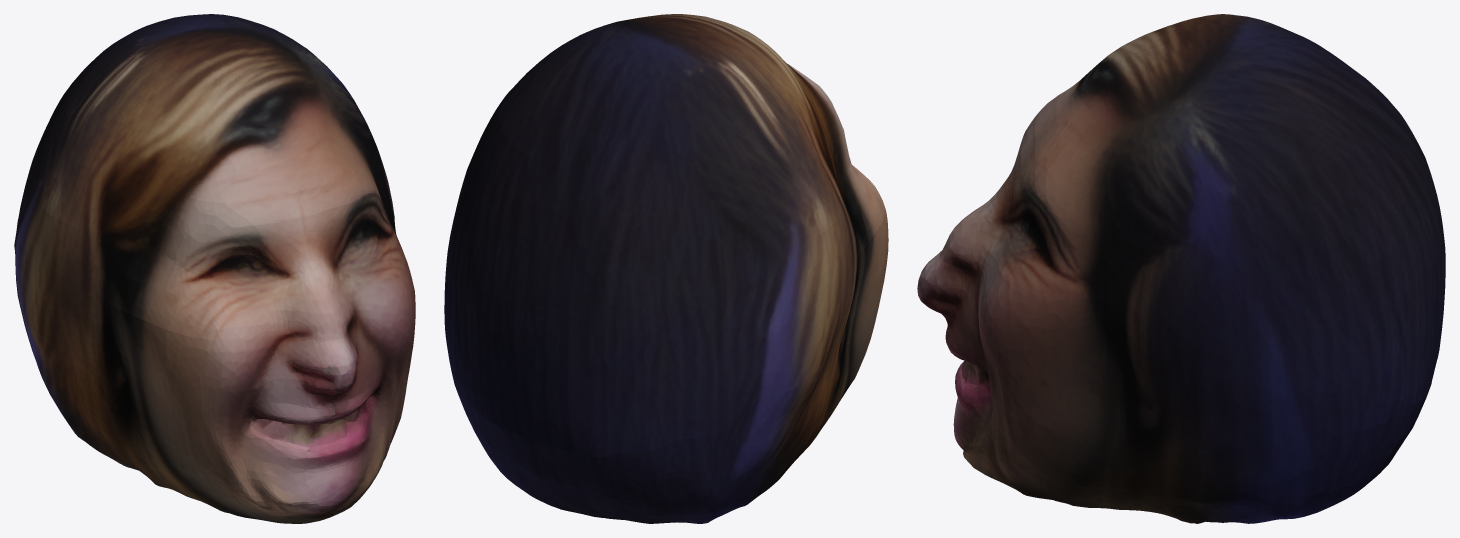
The picture shows the model from 3 angles, left to right: view 1: azimuth 30°, elevation 25°; view 2: azimuth 150°, elevation 25°; view 3: azimuth 270°, elevation 25°; orthographic projection. The views are drawn at different scales.
Visible parts, largest first — view 1: geometry_0; view 2: geometry_0; view 3: geometry_0.
Part boxes in pixels (x1,y1,x2,y2): geometry_0: (14, 14, 415, 523); geometry_0: (444, 14, 888, 523); geometry_0: (917, 14, 1445, 523).
Bounding box in the file's own units: 0.5207 × 0.6368 × 0.6806.
Materials: 1 (1 with a texture image).
